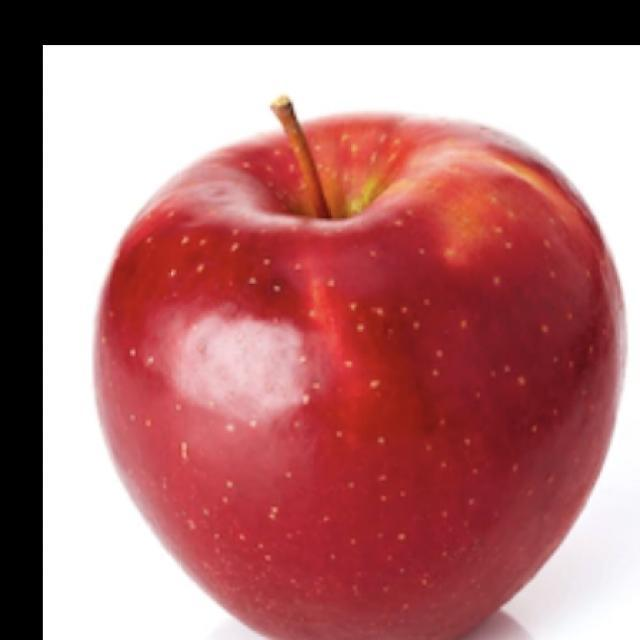Fresh Apple: (85, 110, 635, 640)
